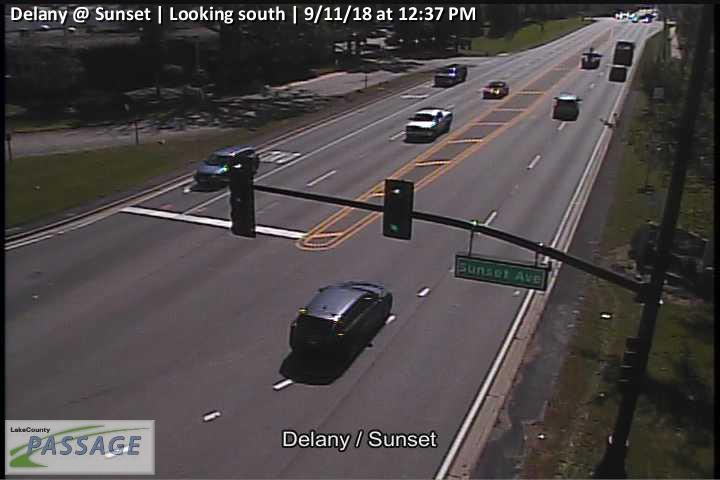SUV: (288, 279, 393, 367), (434, 62, 468, 87)
Sedan: (193, 145, 259, 188), (405, 106, 452, 141), (551, 92, 583, 120), (482, 79, 509, 98)
